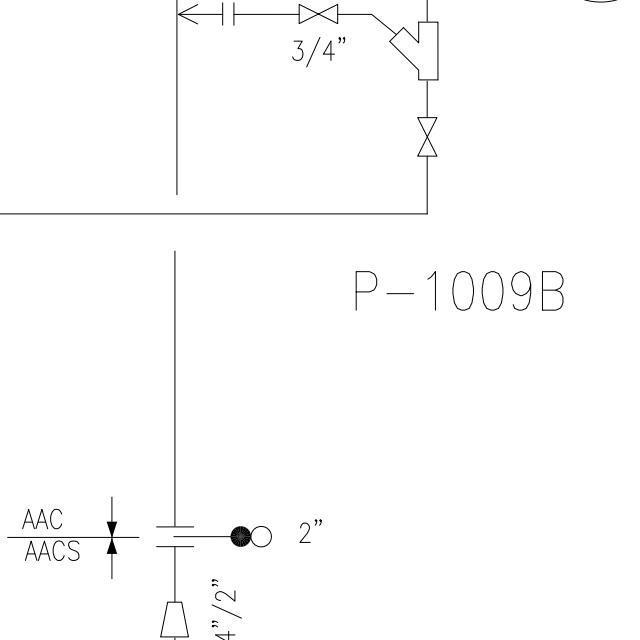GV: (415, 111, 443, 166), (295, 0, 344, 28)
SP: (156, 595, 196, 640)
